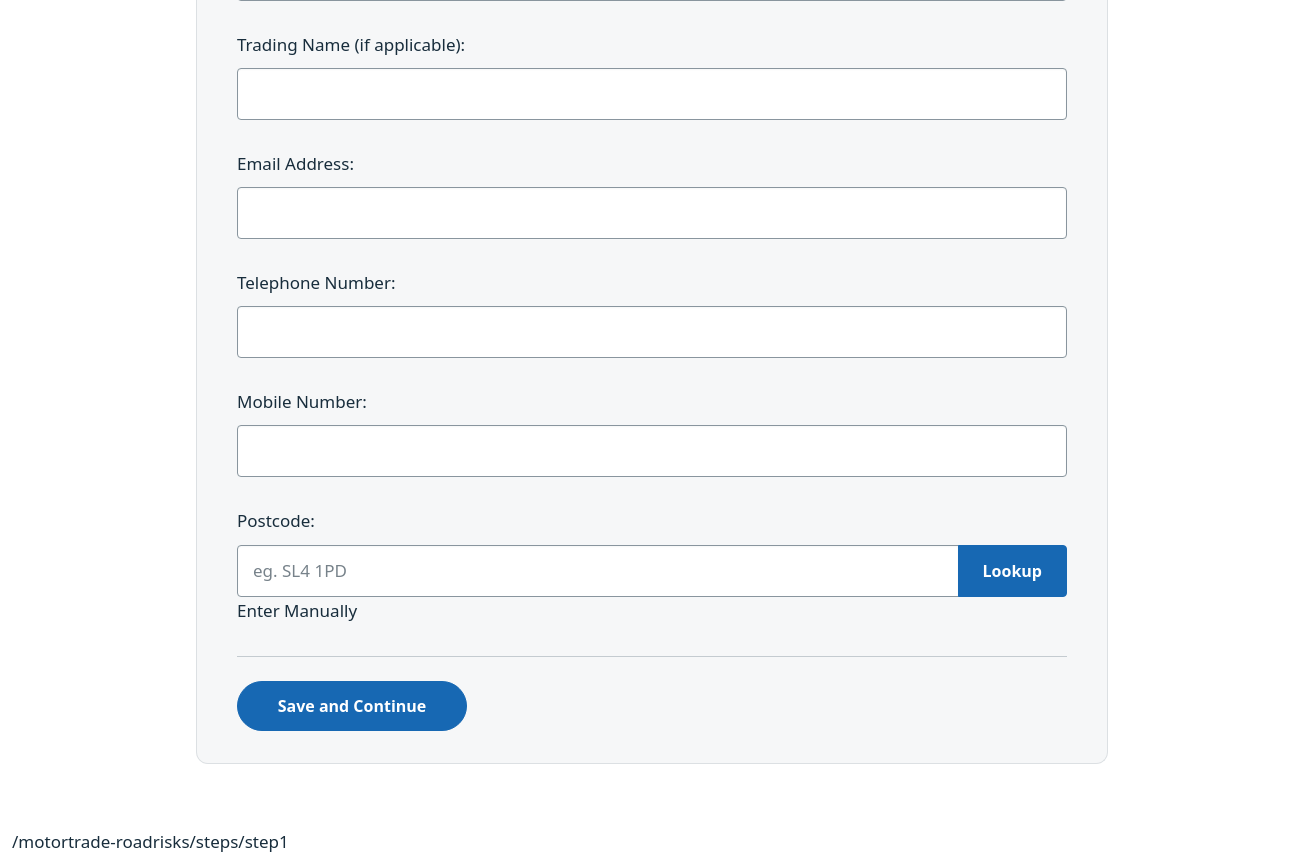
Test: MTS-01 mounted proposer › Q15–20 / R06 manual mode writes only form-local values until submit
(page scrolled)
Click the link "Enter Manually" at (297, 610), box [237,599,357,622]
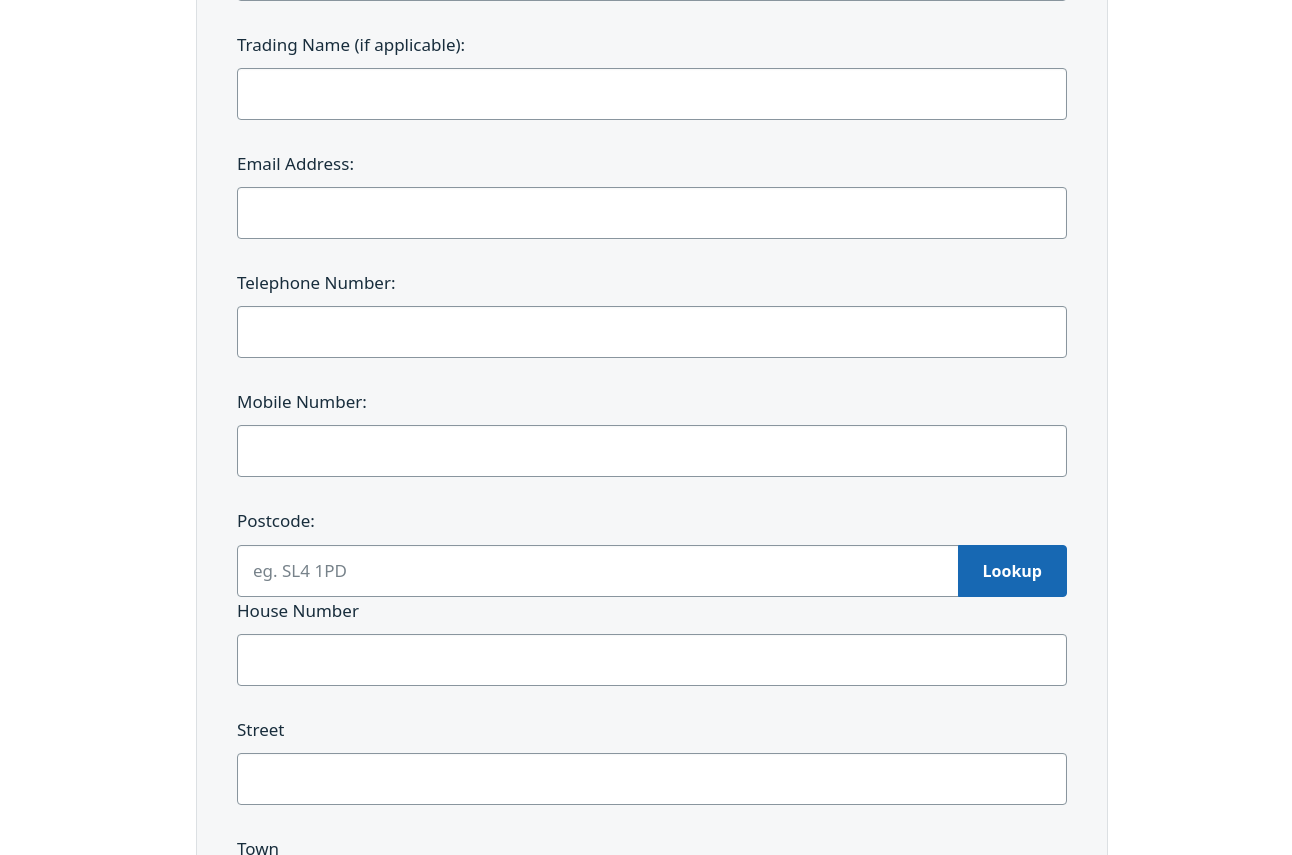
Expected: the text "House Number" is shown, [237,597,359,624]
Type "a!b 1" into the field with placeholder "eg. SL4 1PD" at (598, 571), box [237,545,959,597]
(page scrolled)
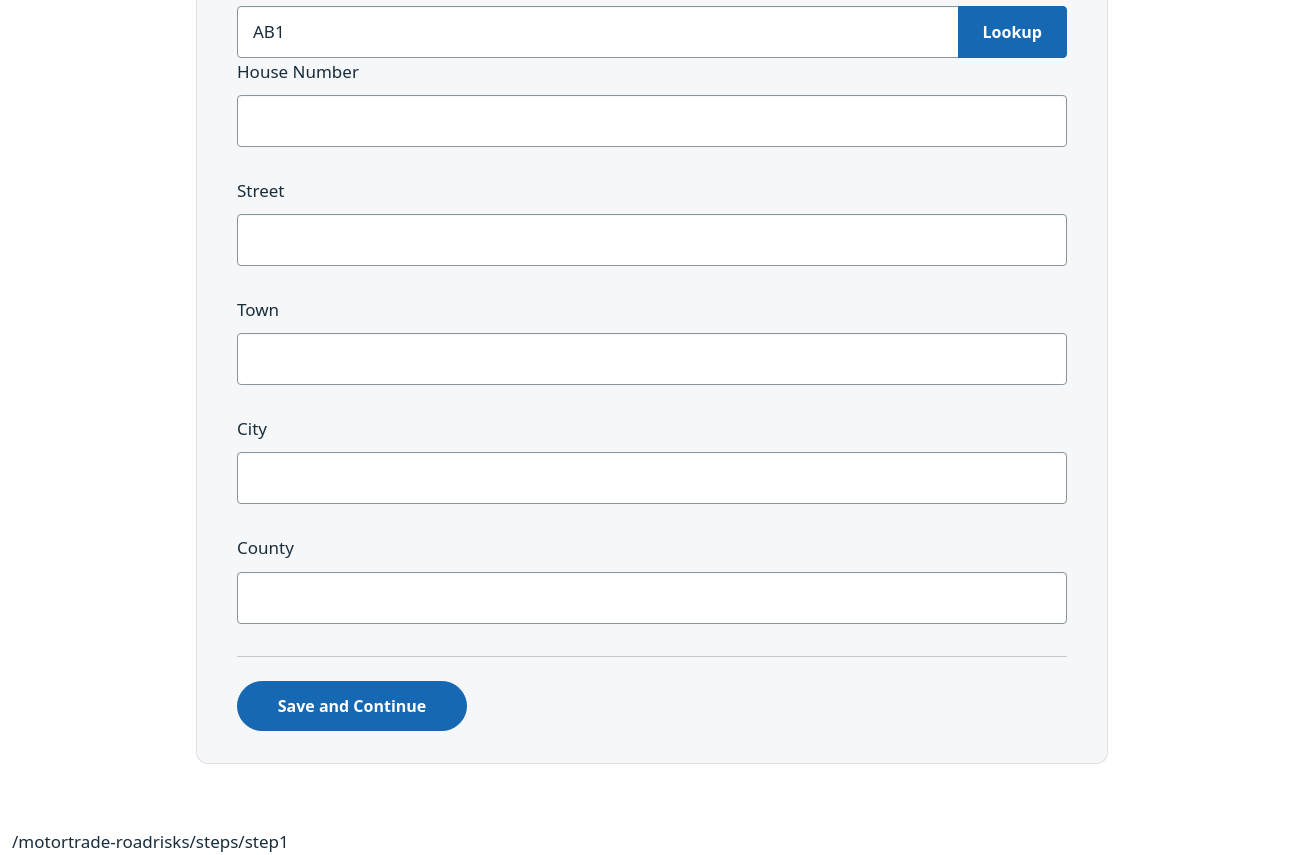
Expected: the 1st field with placeholder "eg. SL4 1PD" holds "AB1", [237,6,959,58]
Click the button "Save and Continue" at (352, 706), box [237,680,467,730]
(page scrolled)
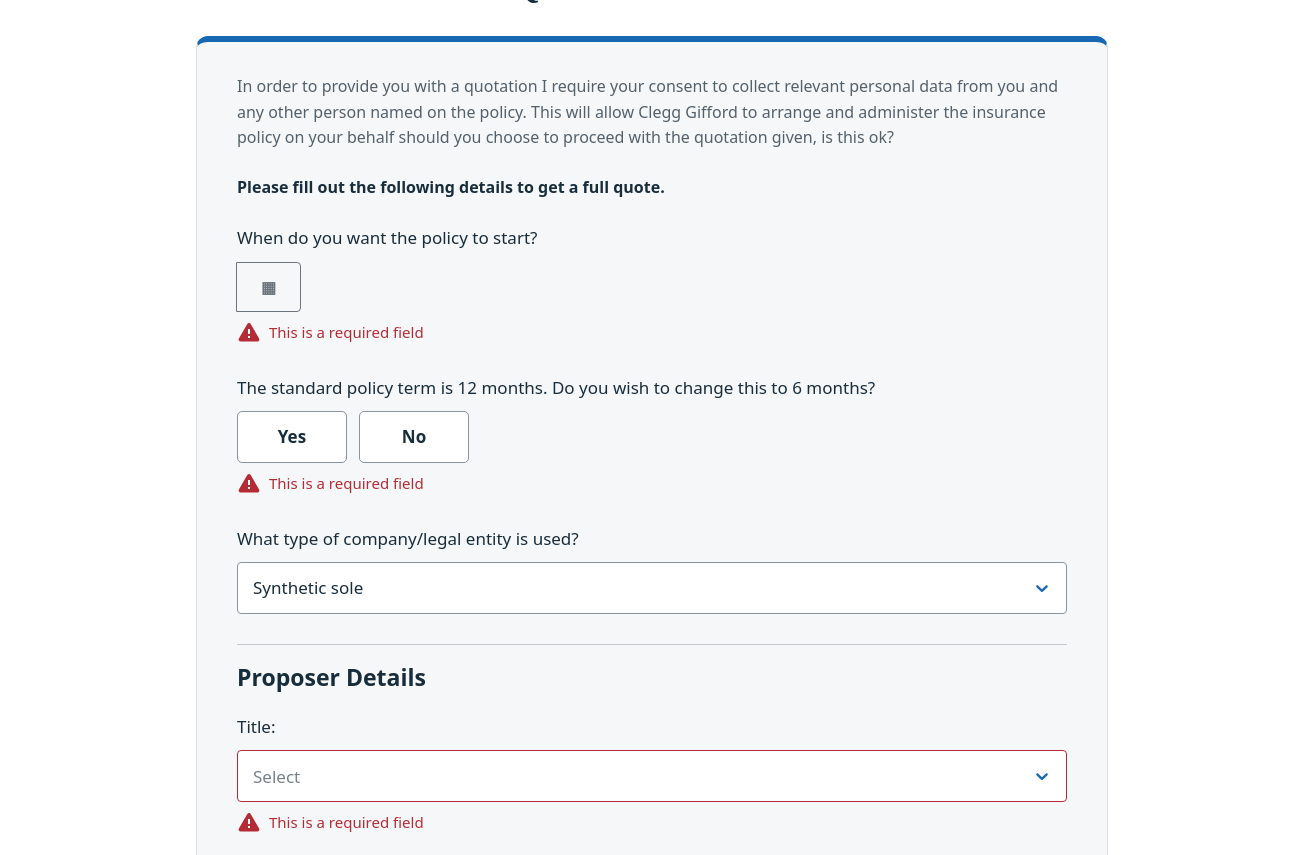
Expected: the text "This is a required field" below "When do you want the policy to start?" is shown, [269,322,424,342]
